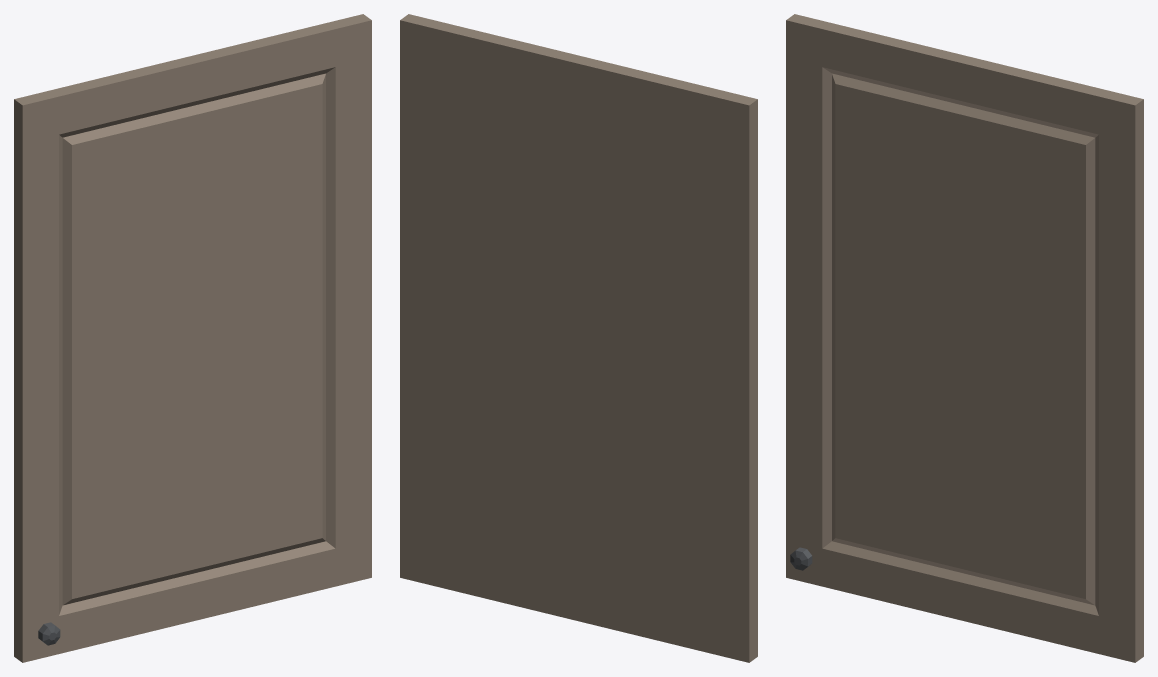
Rendered from Door3_C5_11.fbx.
3 views of the same model, side by side, from view 1: azimuth 30°, elevation 25°; view 2: azimuth 150°, elevation 25°; view 3: azimuth 330°, elevation 25° (orthographic).
Parts seen in each view (by area): view 1: Door3_C5_11; view 2: Door3_C5_11; view 3: Door3_C5_11.
Boxes of the visible parts, <box> form: Door3_C5_11: <box>14,14,371,662</box>; Door3_C5_11: <box>400,14,757,662</box>; Door3_C5_11: <box>786,14,1143,662</box>.
Size of the model in its own units: 59 by 90 by 5.19.
